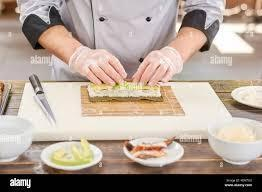apron: (67, 48, 128, 86), (134, 48, 184, 87)
